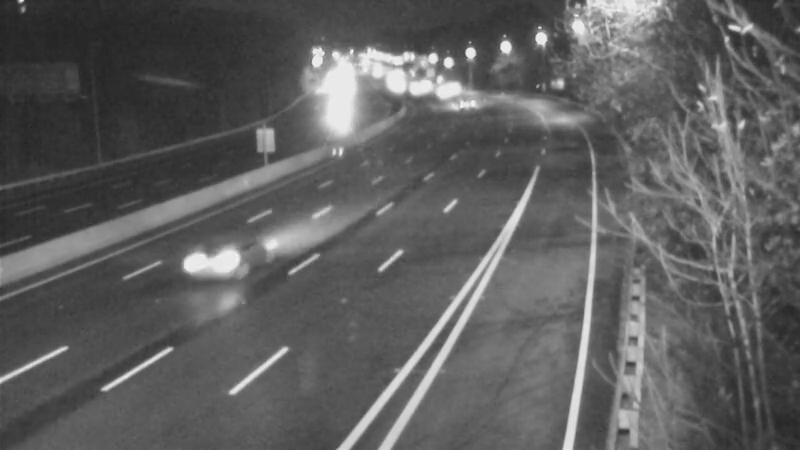vehicle: (165, 224, 245, 304), (431, 74, 481, 124), (315, 84, 365, 134)
